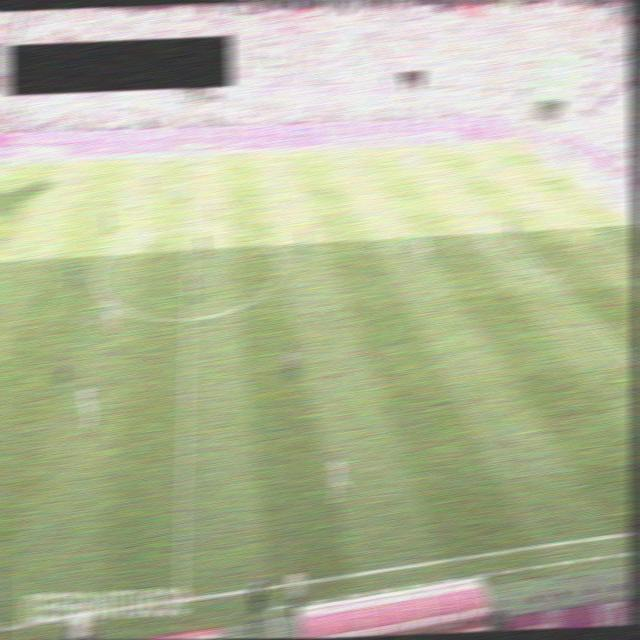bigarea_bottom_inner: (626, 356, 637, 368)
bigarea_top_inner: (446, 174, 462, 186)
bigarea_top_outter: (550, 168, 566, 180)
bottom_arc_area_intersection: (543, 273, 560, 284)
corner: (506, 139, 523, 150)
halfcircle_bottom: (179, 313, 196, 325)
halfcircle_top: (182, 221, 199, 233)
midline_bottom_intersection: (165, 583, 194, 612)
midline_top_intersection: (185, 153, 202, 165)
smallarea_top_inner: (558, 201, 575, 212)
smallarea_top_outter: (595, 199, 611, 212)
top_arc_area_intersection: (483, 211, 500, 222)
